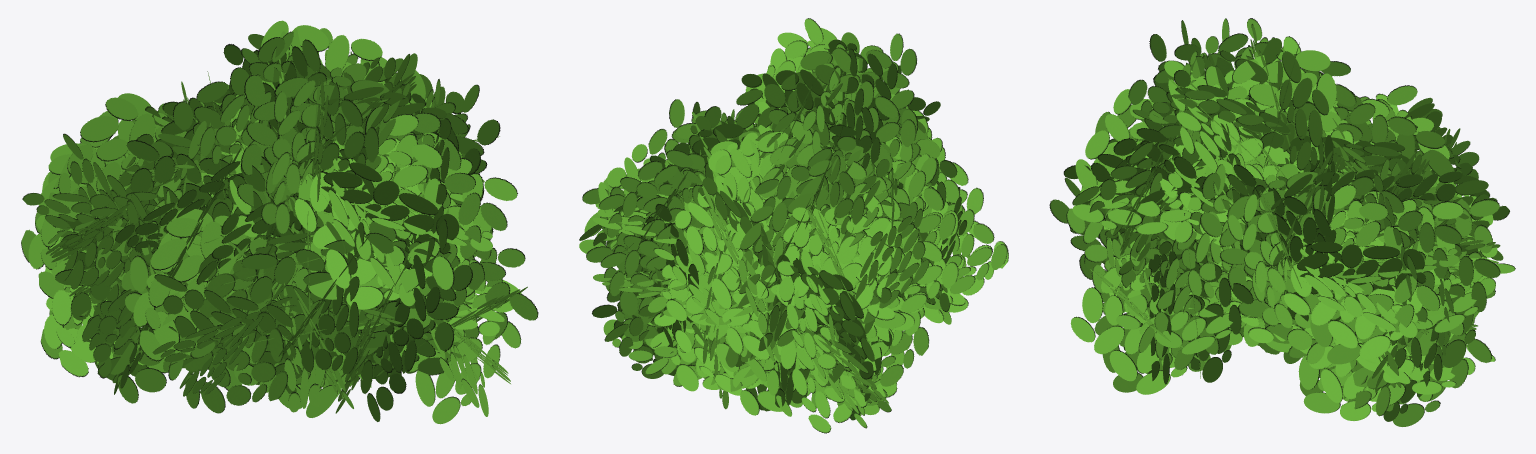
The model's file is arbolH.fbx.
The picture shows the model from 3 angles, left to right: view 1: azimuth 30°, elevation 25°; view 2: azimuth 150°, elevation 25°; view 3: azimuth 270°, elevation 25°; orthographic projection. The views are drawn at different scales.
Visible parts, largest first — view 1: arbolH; view 2: arbolH; view 3: arbolH.
Boxes of the visible parts, x1,y1,x2,y2 form: arbolH: (21, 20, 538, 424); arbolH: (579, 18, 1008, 433); arbolH: (1049, 18, 1515, 426).
Size of the model in its own units: 17.46 by 14.83 by 17.85.
